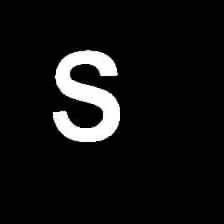LTR_S: (42, 42, 123, 142)
